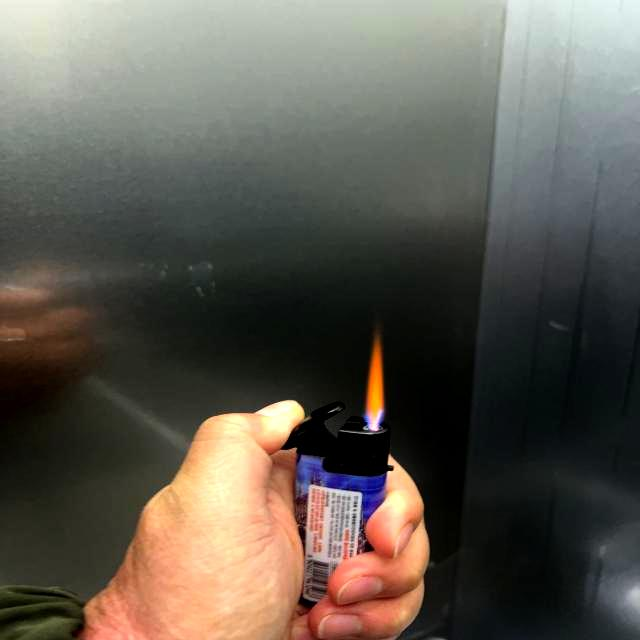fire: (362, 329, 386, 427)
